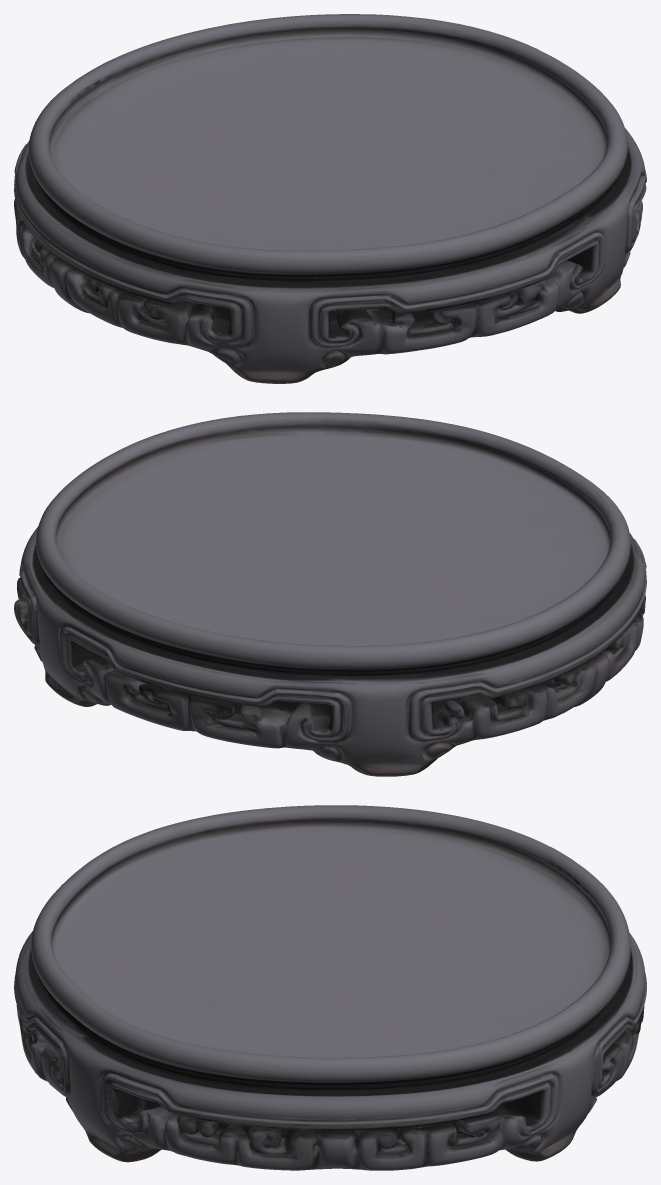
The picture shows the model from 3 angles, top to bottom: view 1: azimuth 30°, elevation 25°; view 2: azimuth 150°, elevation 25°; view 3: azimuth 270°, elevation 25°; orthographic projection. The views are drawn at different scales.
Visible parts, largest first — view 1: node_0; view 2: node_0; view 3: node_0.
Boxes of the visible parts, x1,y1,x2,y2 form: node_0: [14, 14, 646, 383]; node_0: [14, 412, 646, 776]; node_0: [14, 805, 646, 1170].
Size of the model in its own units: 1.19 by 0.2728 by 1.13.
1 material, 1 textured.
